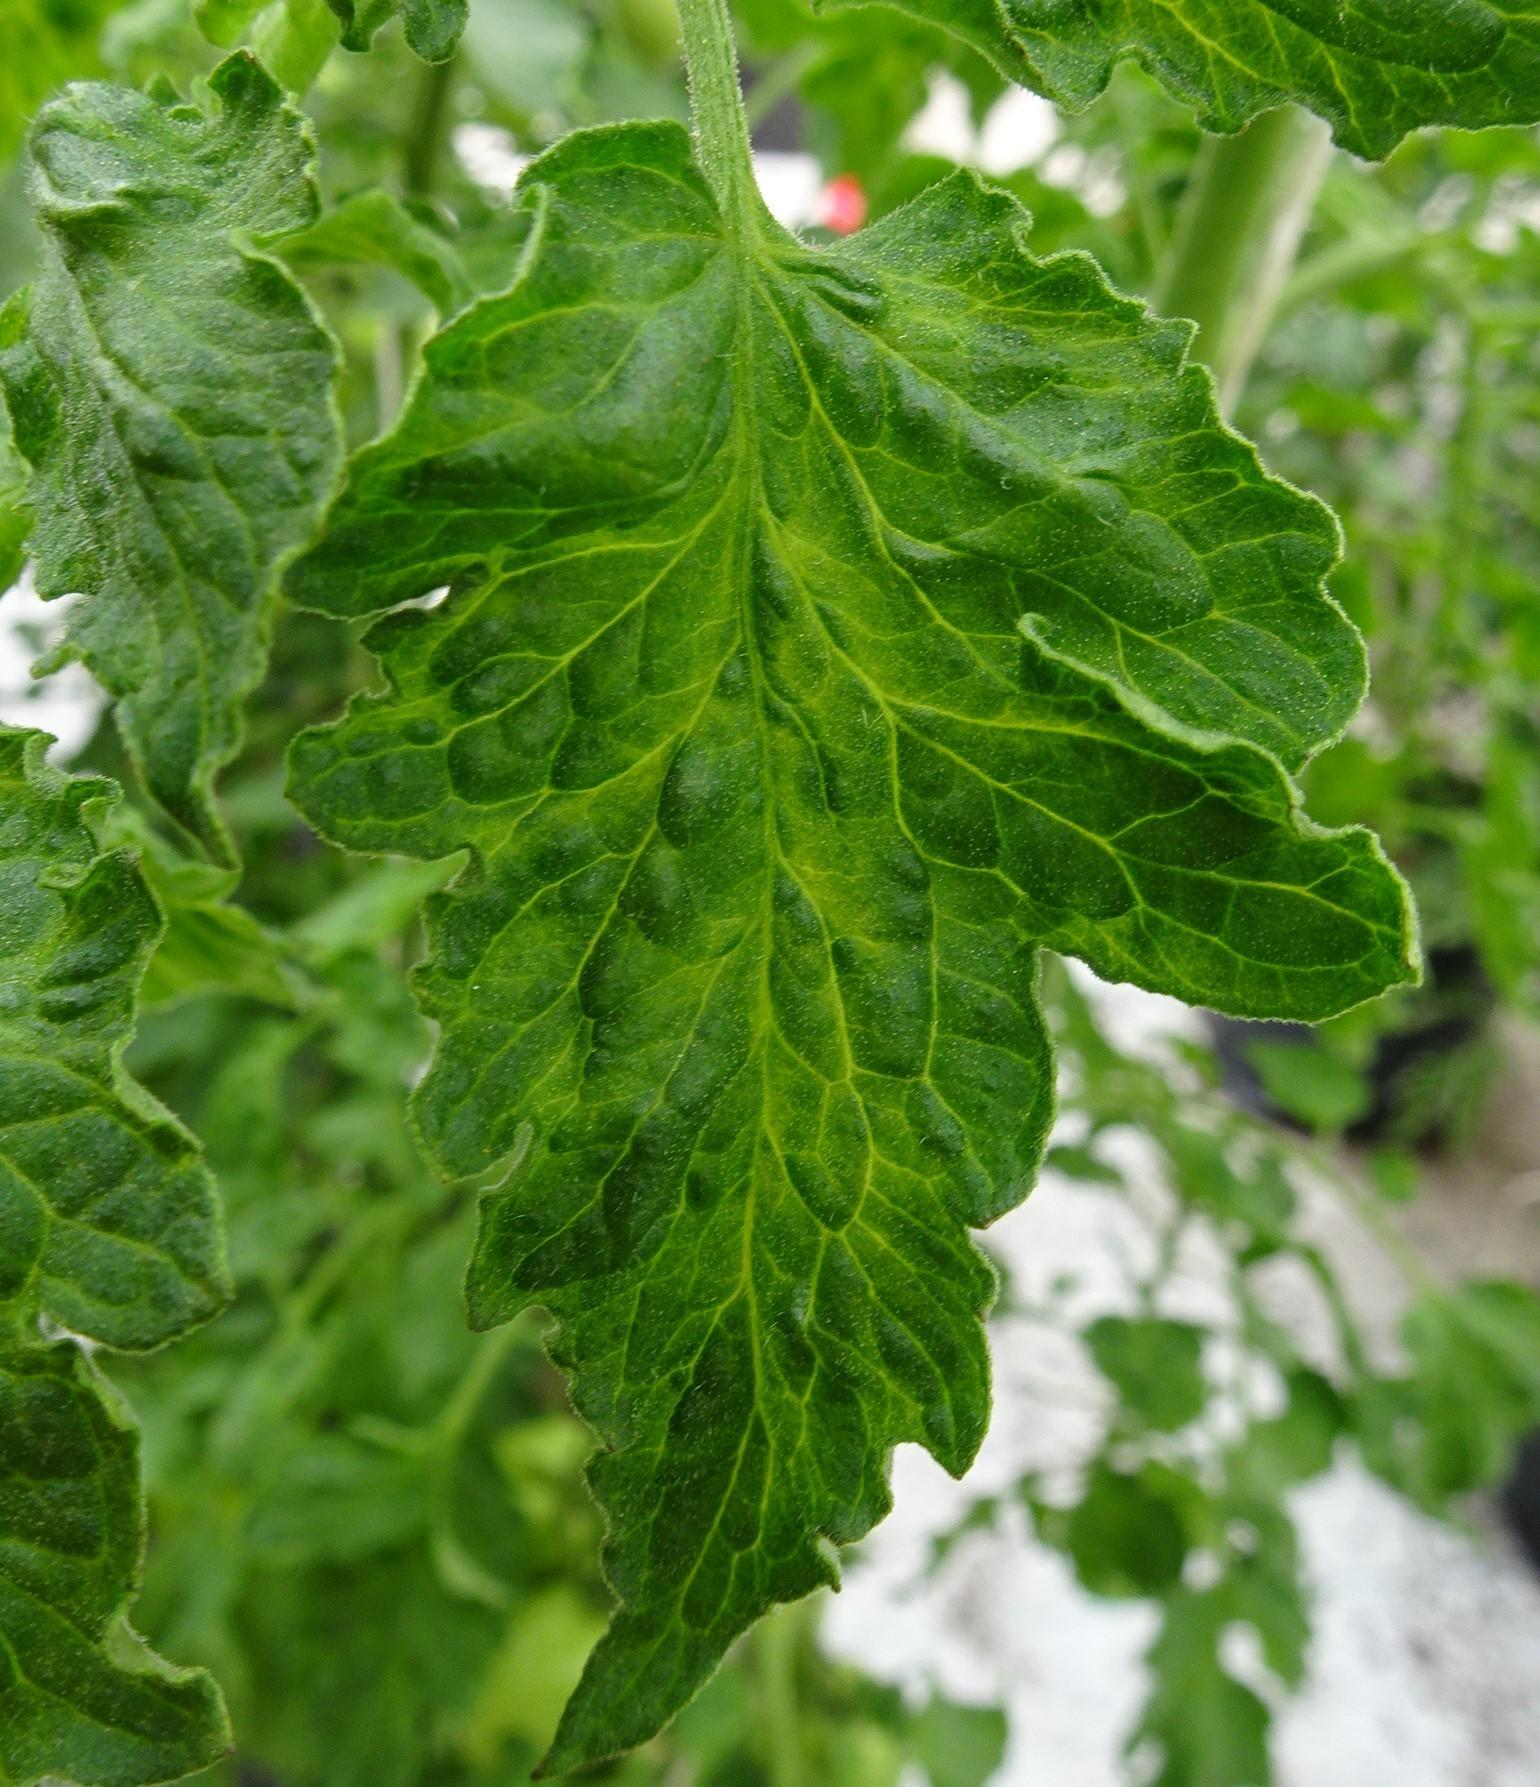Rugose leaf: (3, 52, 342, 862)
